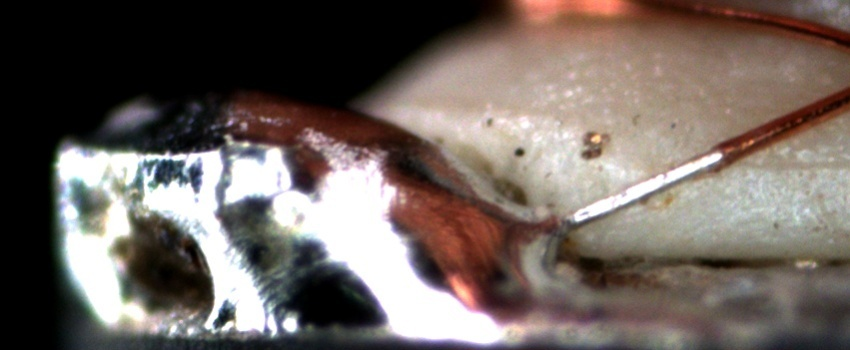DL: (698, 134, 849, 198)
TS: (556, 149, 727, 233)
